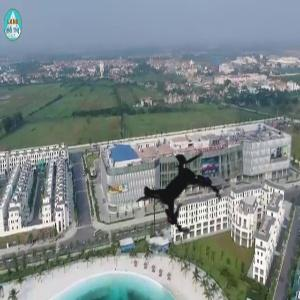drone: (108, 114, 256, 262)
